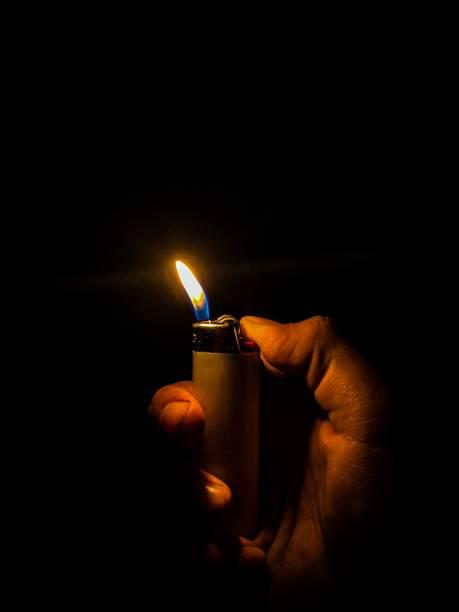Fire: (166, 257, 213, 321)
